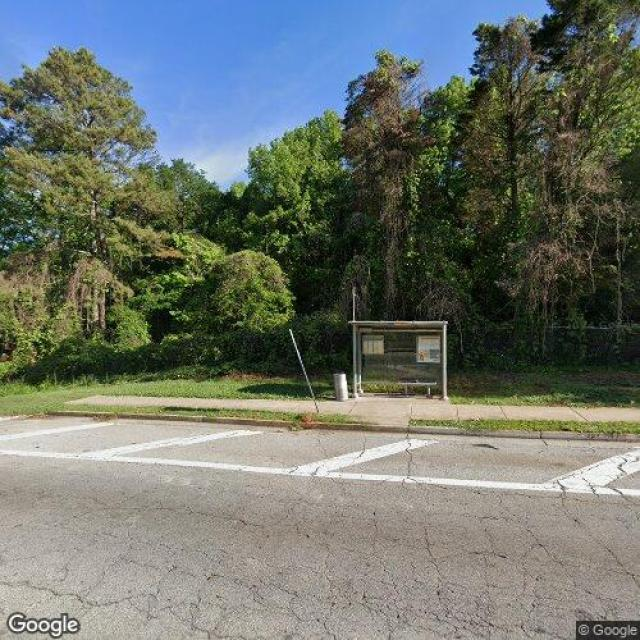seating: (399, 381, 437, 397)
shelter: (348, 321, 449, 402)
trash_can: (333, 372, 348, 402)
